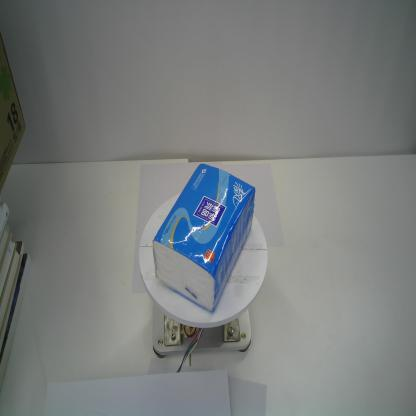Tissue: (152, 162, 256, 313)
